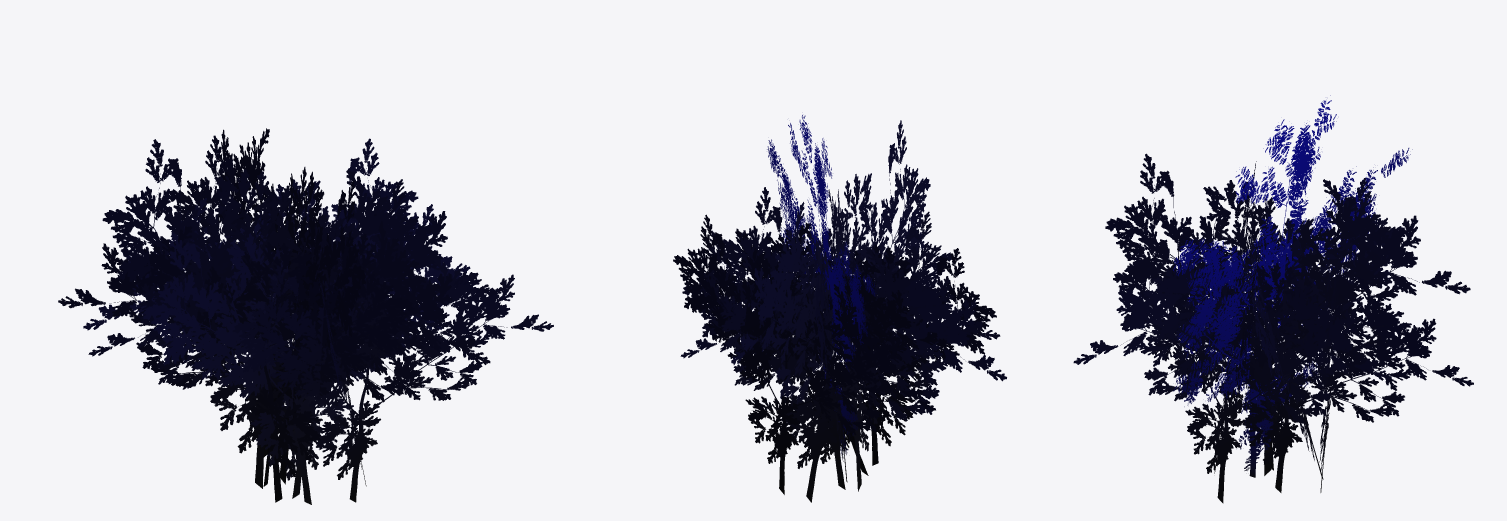
File: SM_Foliage_ShrubTallA_01.fbx
The picture shows the model from 3 angles, left to right: view 1: azimuth 30°, elevation 25°; view 2: azimuth 150°, elevation 25°; view 3: azimuth 270°, elevation 25°; orthographic projection. The views are drawn at different scales.
Visible parts, largest first — view 1: SM_Foliage_ShrubTallA_01; view 2: SM_Foliage_ShrubTallA_01; view 3: SM_Foliage_ShrubTallA_01.
Boxes of the visible parts, x1,y1,x2,y2 form: SM_Foliage_ShrubTallA_01: [58, 128, 553, 504]; SM_Foliage_ShrubTallA_01: [673, 115, 1006, 502]; SM_Foliage_ShrubTallA_01: [1073, 95, 1473, 503].
Size of the model in its own units: 269 by 249 by 258.
